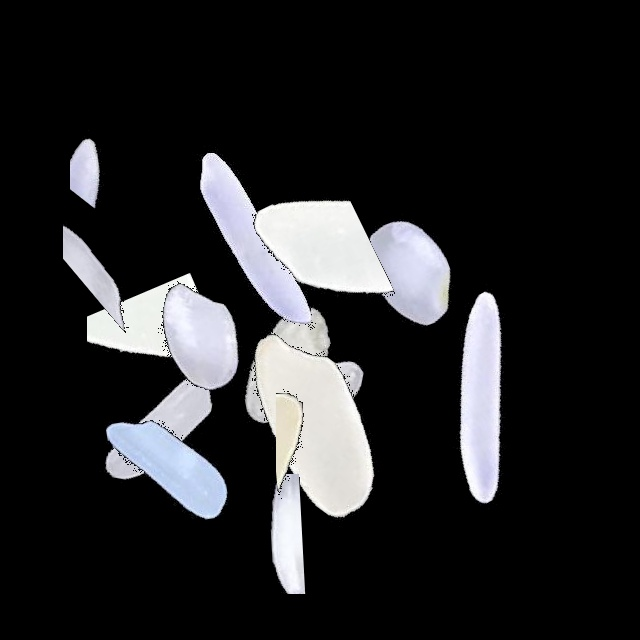Broken: (87, 236, 225, 486), (180, 197, 430, 334), (290, 292, 424, 542), (117, 474, 367, 594), (63, 113, 181, 363), (276, 344, 372, 594), (70, 41, 163, 291)
Full: (36, 299, 286, 549), (359, 271, 609, 521), (160, 240, 410, 490), (132, 114, 382, 364), (285, 147, 535, 397), (41, 344, 291, 594), (76, 212, 326, 462), (186, 300, 436, 550)
